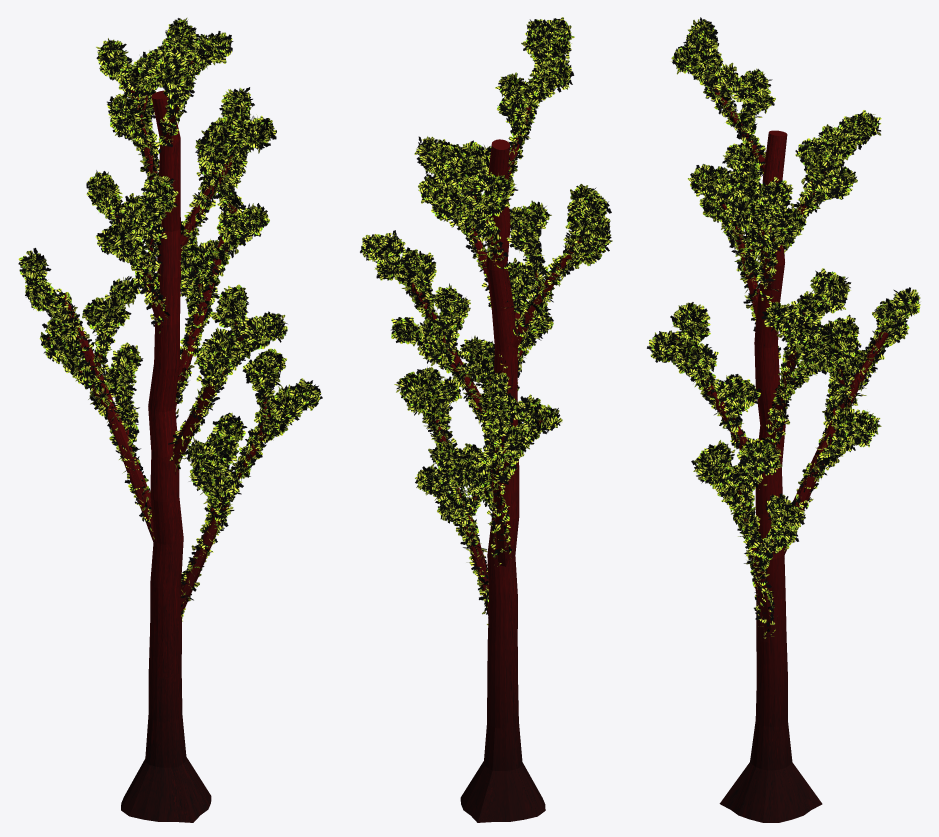
The model's file is baldcypress_v02.glb.
3 views of the same model, side by side, from view 1: azimuth 30°, elevation 25°; view 2: azimuth 150°, elevation 25°; view 3: azimuth 270°, elevation 25° (orthographic). The views are drawn at different scales.
Parts seen in each view (by area): view 1: baldcypress_v02; view 2: baldcypress_v02; view 3: baldcypress_v02.
Part boxes in pixels (box(x1,y1,x2,y2)): baldcypress_v02: box(18, 17, 322, 822); baldcypress_v02: box(360, 17, 612, 822); baldcypress_v02: box(647, 17, 920, 822).
Bounding box in the file's own units: 8.68 × 30.17 × 9.87.
2 materials, 2 textured.
